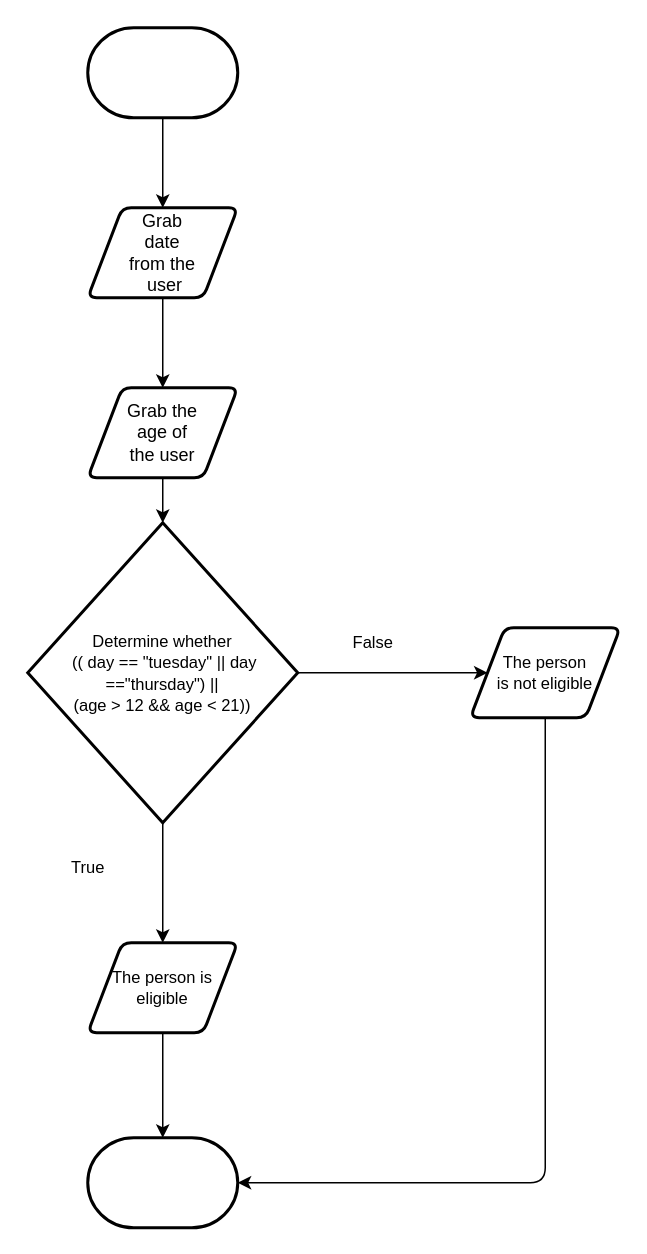
The diagram is 647 pixels wide and 1254 high, and some of its shapes have lost their labels. The shapes that lost their labels are listed below. From the top down, each one's centre as x and y in pixels, then its label:
At pixel 162 72: "Start".
At pixel 162 1182: "Stop".
